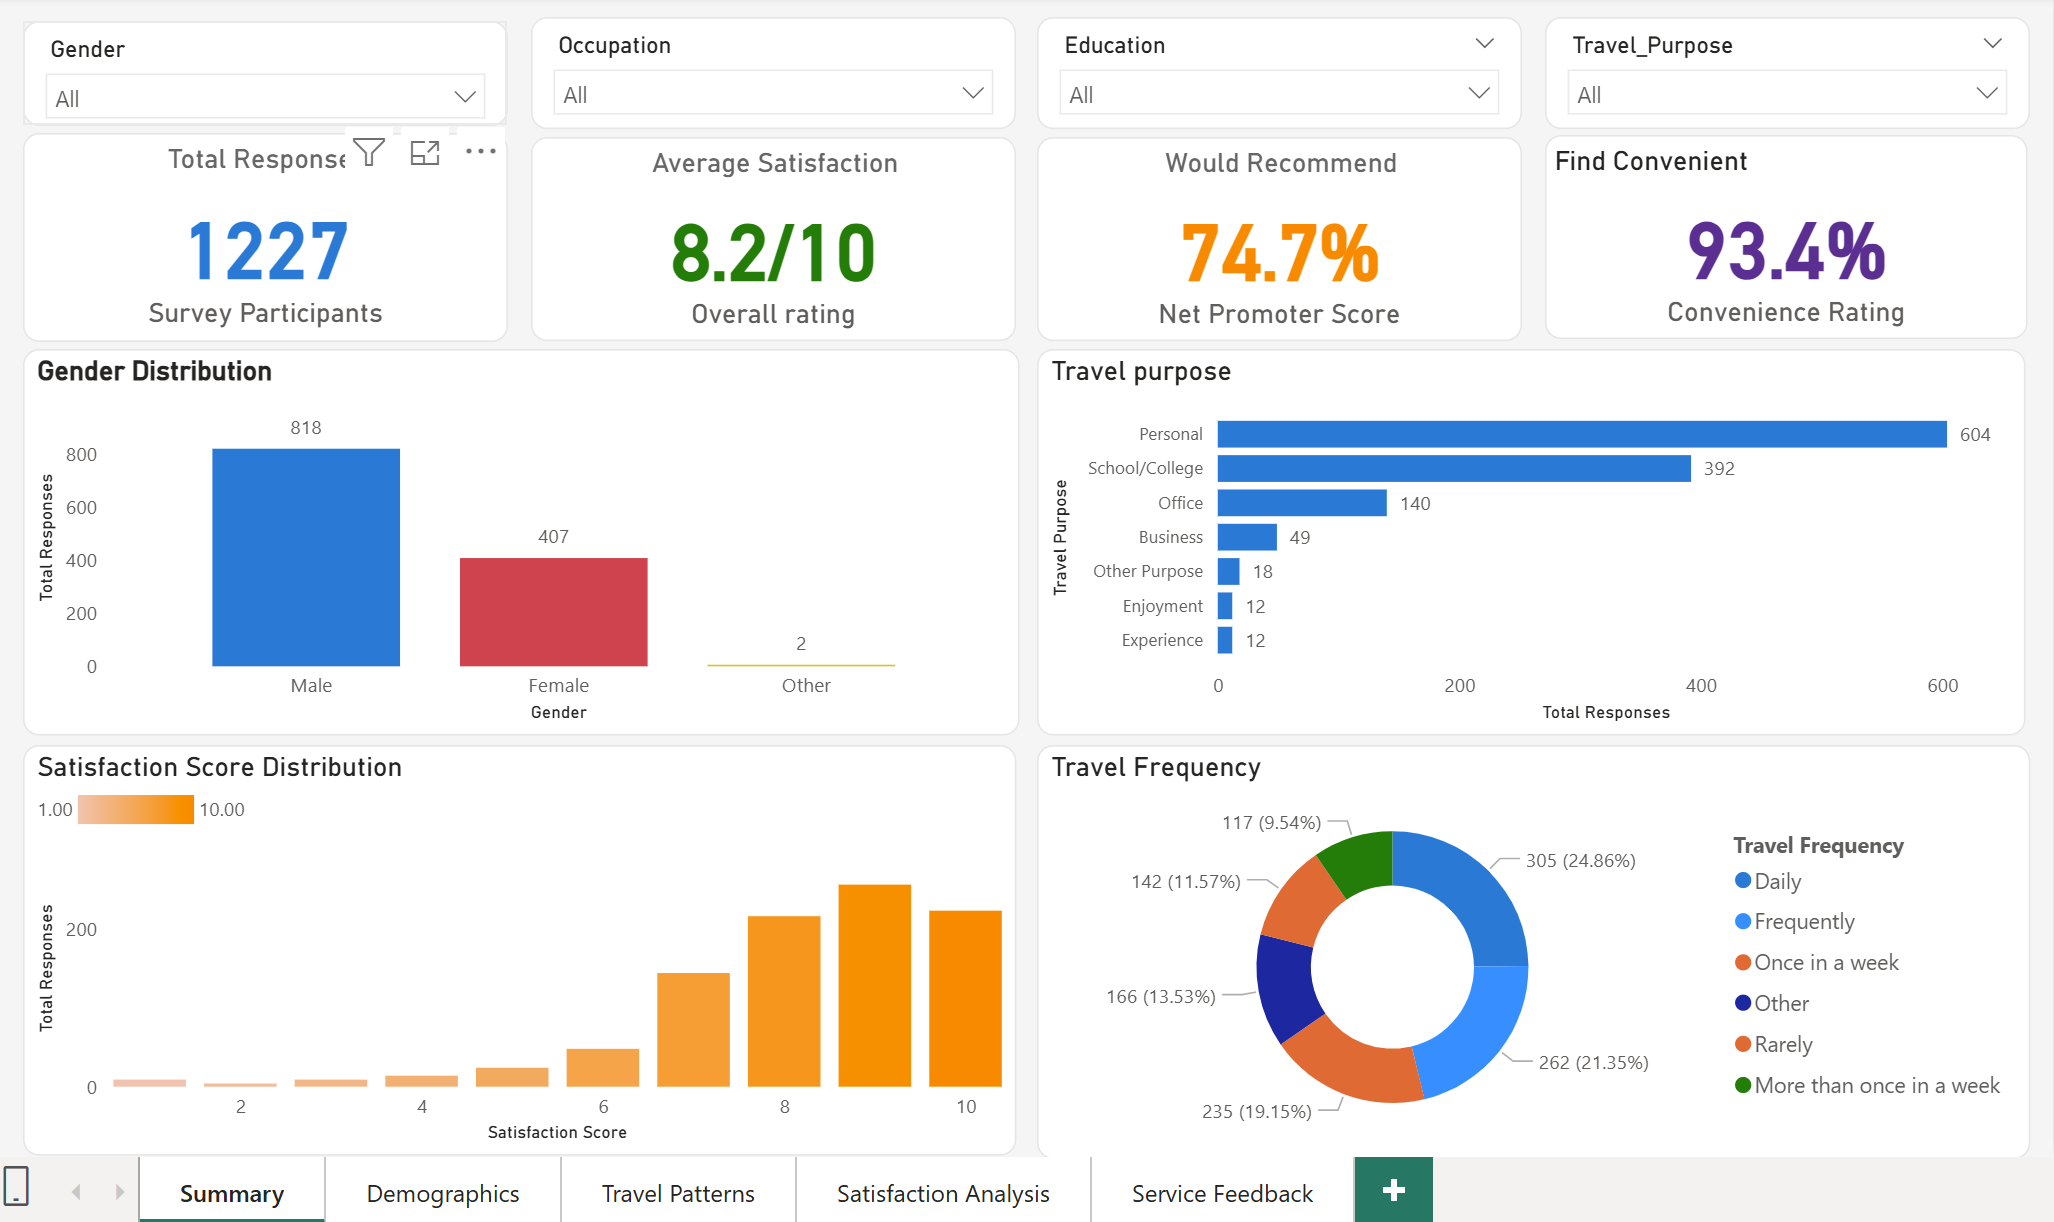

This screenshot's page, from the dashboard's own definition file:
{"tool":"powerbi","page":{"name":"Summary","canvas":[1280,720],"ordinal":0},"visuals":[{"type":"card","title":"Total Responses","fields":{"Values":["_Measures(1).Total Responses"]},"box":[22.2,85.4,300.6,129.7],"z":0},{"type":"card","title":"Average Satisfaction","fields":{"Values":["_Measures(1).Average Satisfaction"]},"box":[337,88.6,300.6,126.6],"z":1000},{"type":"card","title":"Would Recommend","fields":{"Values":["_Measures(1).Would Recommend"]},"box":[650.3,88.6,300.6,126.6],"z":2000},{"type":"card","title":"Find Convenient","fields":{"Values":["_Measures(1).Find Convenient"]},"box":[965.1,87,299,126.6],"z":3000},{"type":"columnChart","title":"Gender Distribution","fields":{"Category":["Dim_Demographics.Gender"],"Y":["_Measures(1).Total Responses"]},"box":[22.7,219.9,617.3,239.6],"z":4000},{"type":"barChart","title":"Travel purpose","fields":{"Category":["Dim_Travel.Travel Purpose"],"Y":["_Measures(1).Total Responses"]},"box":[650.6,219.9,612.7,239.6],"z":5000},{"type":"clusteredColumnChart","title":"Satisfaction Score Distribution","fields":{"Y":["_Measures(1).Total Responses"],"Category":["Dim_Satisfaction.Satisfaction_Score"]},"box":[22.2,465.2,615.5,254.7],"z":6000},{"type":"donutChart","title":"Travel Frequency","fields":{"Y":["_Measures(1).Total Responses"],"Category":["Dim_Travel.Travel Frequency"]},"box":[650.3,465.2,615.5,256.3],"z":7000},{"type":"slicer","fields":{"Values":["Dim_Demographics.Gender"]},"box":[22.2,16,300.6,64.9],"z":8000},{"type":"slicer","fields":{"Values":["Dim_Demographics.Occupation"]},"box":[336.5,13.6,300.6,69.6],"z":9000},{"type":"slicer","fields":{"Values":["Dim_Demographics.Education"]},"box":[650.8,13.6,300.6,69.6],"z":10000},{"type":"slicer","fields":{"Values":["Dim_Travel.Travel_Purpose"]},"box":[965.1,13.6,300.6,69.6],"z":11000}]}

Visuals, with their boxes on the page's 1280x720 design canvas (x1, y1, x2, y2). These are canvas units, not pixel positions in the 2054x1222 screenshot, which may show the page scaled, cropped or inside an application window:
"Total Responses" card: x1=22, y1=85, x2=323, y2=215
"Average Satisfaction" card: x1=337, y1=89, x2=638, y2=215
"Would Recommend" card: x1=650, y1=89, x2=951, y2=215
"Find Convenient" card: x1=965, y1=87, x2=1264, y2=214
"Gender Distribution" columnChart: x1=23, y1=220, x2=640, y2=460
"Travel purpose" barChart: x1=651, y1=220, x2=1263, y2=460
"Satisfaction Score Distribution" clusteredColumnChart: x1=22, y1=465, x2=638, y2=720
"Travel Frequency" donutChart: x1=650, y1=465, x2=1266, y2=722
slicer - Dim_Demographics.Gender: x1=22, y1=16, x2=323, y2=81
slicer - Dim_Demographics.Occupation: x1=336, y1=14, x2=637, y2=83
slicer - Dim_Demographics.Education: x1=651, y1=14, x2=951, y2=83
slicer - Dim_Travel.Travel_Purpose: x1=965, y1=14, x2=1266, y2=83
